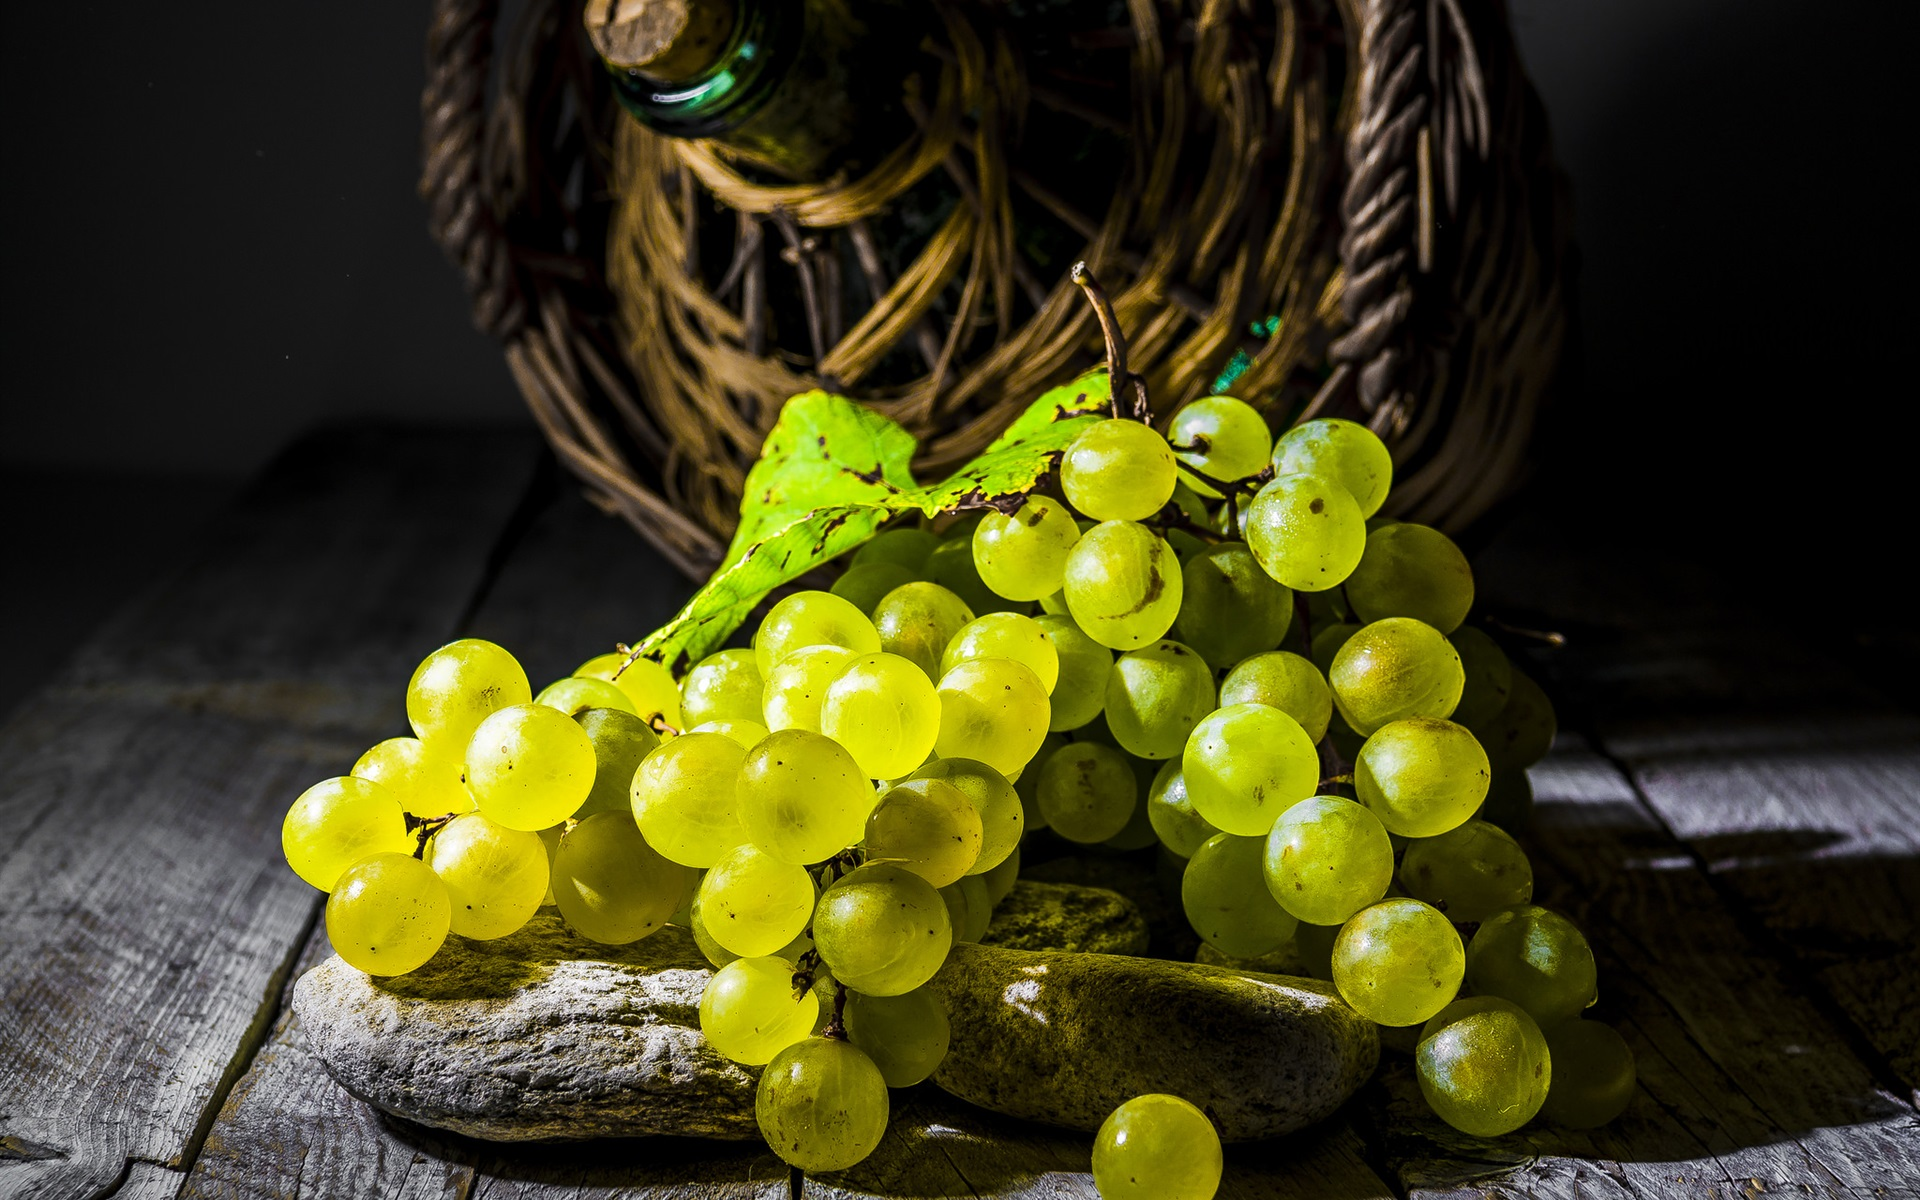grapes: (241, 393, 1628, 1200)
